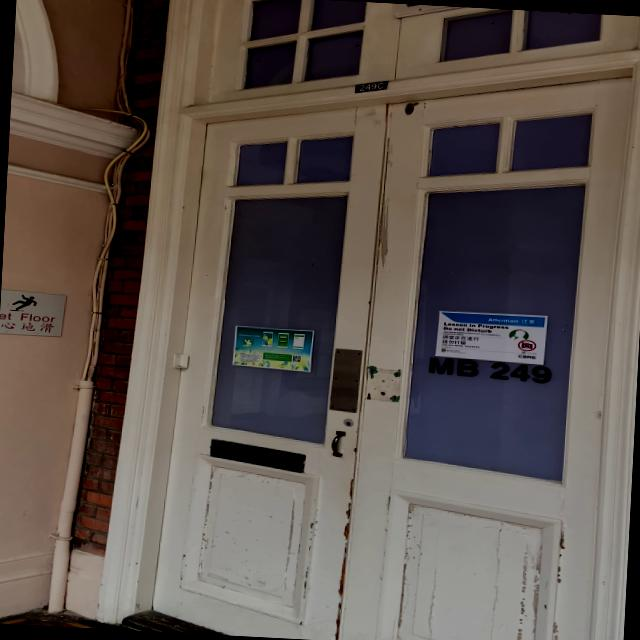room249c: (347, 76, 395, 98)
room249cWindow: (420, 352, 556, 386)
